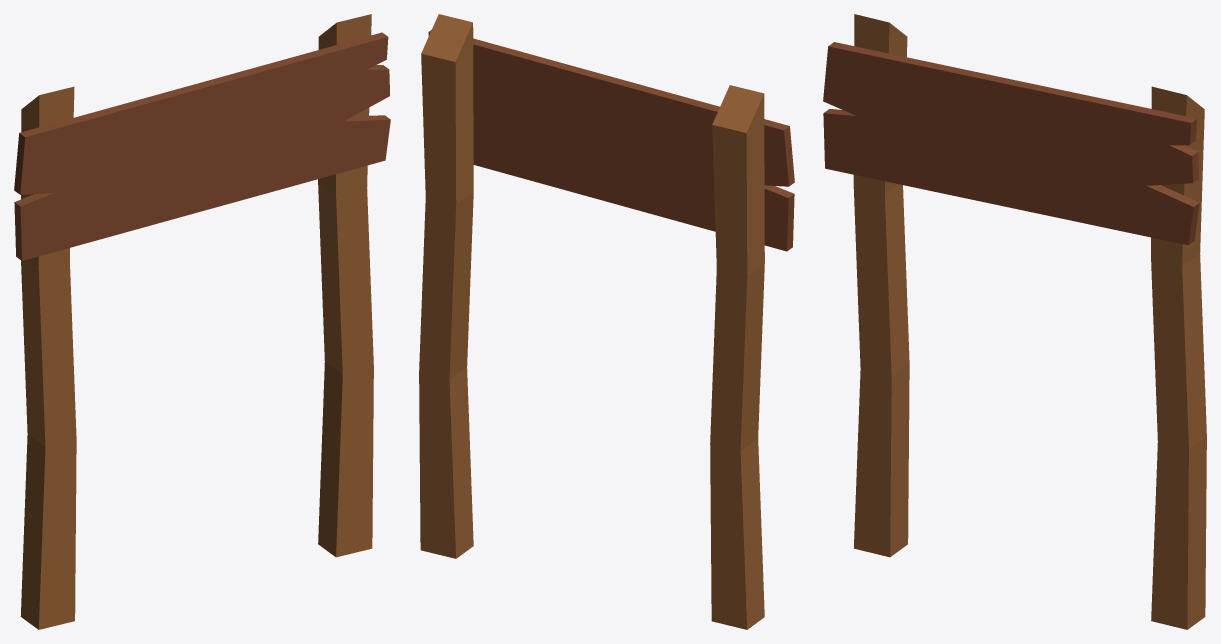
The model's file is LP_PostApoc_Sign2.fbx.
The picture shows the model from 3 angles, left to right: view 1: azimuth 30°, elevation 25°; view 2: azimuth 150°, elevation 25°; view 3: azimuth 330°, elevation 25°; orthographic projection. The views are drawn at different scales.
Visible parts, largest first — view 1: Sign2; view 2: Sign2; view 3: Sign2.
Boxes of the visible parts, left/top/right/bottom form: Sign2: left=14, top=14, right=390, bottom=629; Sign2: left=419, top=14, right=794, bottom=629; Sign2: left=823, top=14, right=1206, bottom=629.
Size of the model in its own units: 104 by 144 by 11.74.
